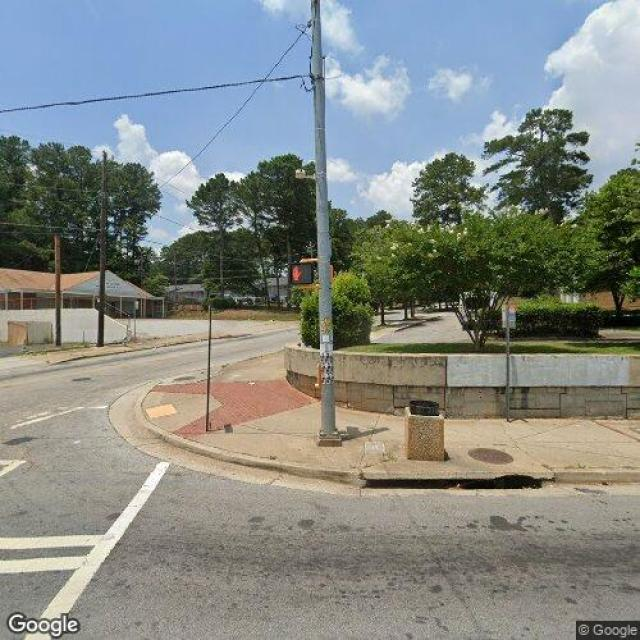trash_can: (404, 399, 446, 461)
